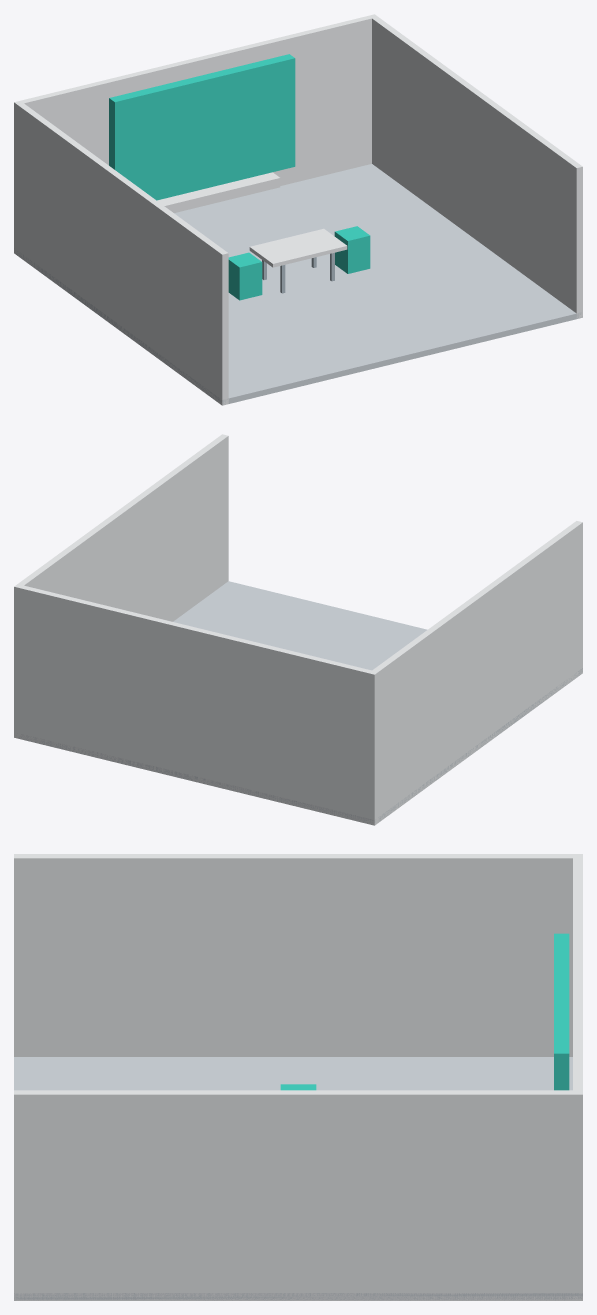
3 renders of one model, top to bottom at view 1: azimuth 30°, elevation 25°; view 2: azimuth 150°, elevation 25°; view 3: azimuth 270°, elevation 25°, orthographic. The views are drawn at different scales.
Visible parts, largest first — view 1: Exhibition Booth Concept; view 2: Exhibition Booth Concept; view 3: Exhibition Booth Concept.
Boxes of the visible parts, <box> form: Exhibition Booth Concept: <box>14,14,582,405</box>; Exhibition Booth Concept: <box>14,434,582,825</box>; Exhibition Booth Concept: <box>14,854,582,1300</box>.
Bounding box in the file's own units: 8 × 3.2 × 8.
